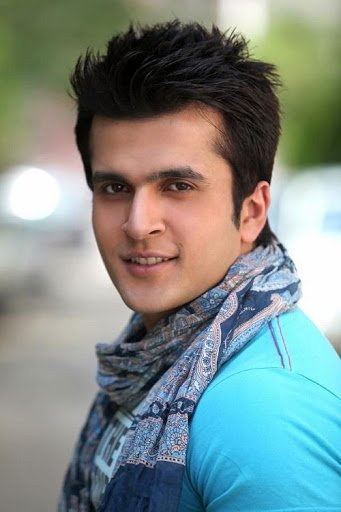noMask: (64, 30, 286, 322)
